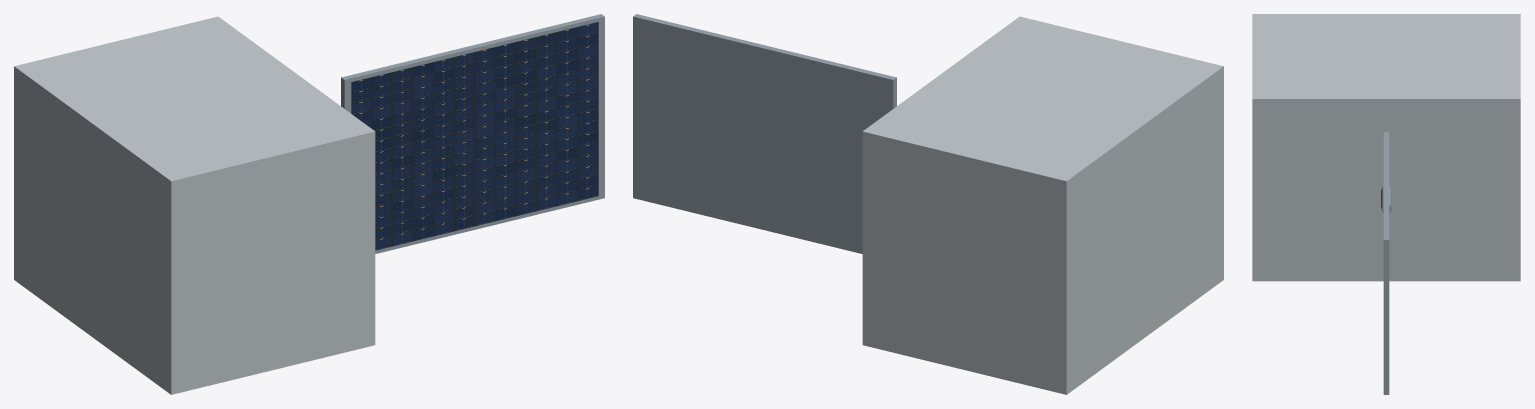
Rendered from ref-iceye-43114.glb.
3 views of the same model, side by side, from view 1: azimuth 30°, elevation 25°; view 2: azimuth 150°, elevation 25°; view 3: azimuth 270°, elevation 25° (orthographic). The views are drawn at different scales.
Parts seen in each view (by area): view 1: Spacecraft body, Photovoltaic laminates, Array frame; view 2: Spacecraft body, Array frame; view 3: Spacecraft body, Array frame.
Boxes of the visible parts, x1,y1,x2,y2 form: Spacecraft body: [14, 16, 375, 394]; Photovoltaic laminates: [351, 22, 598, 250]; Array frame: [341, 14, 604, 253]; Spacecraft body: [862, 16, 1223, 394]; Array frame: [633, 14, 896, 253]; Spacecraft body: [1252, 14, 1520, 281]; Array frame: [1383, 131, 1389, 394].
Size of the model in its own units: 1.5 by 0.6 by 0.8.
Materials: 3 (1 with a texture image).
